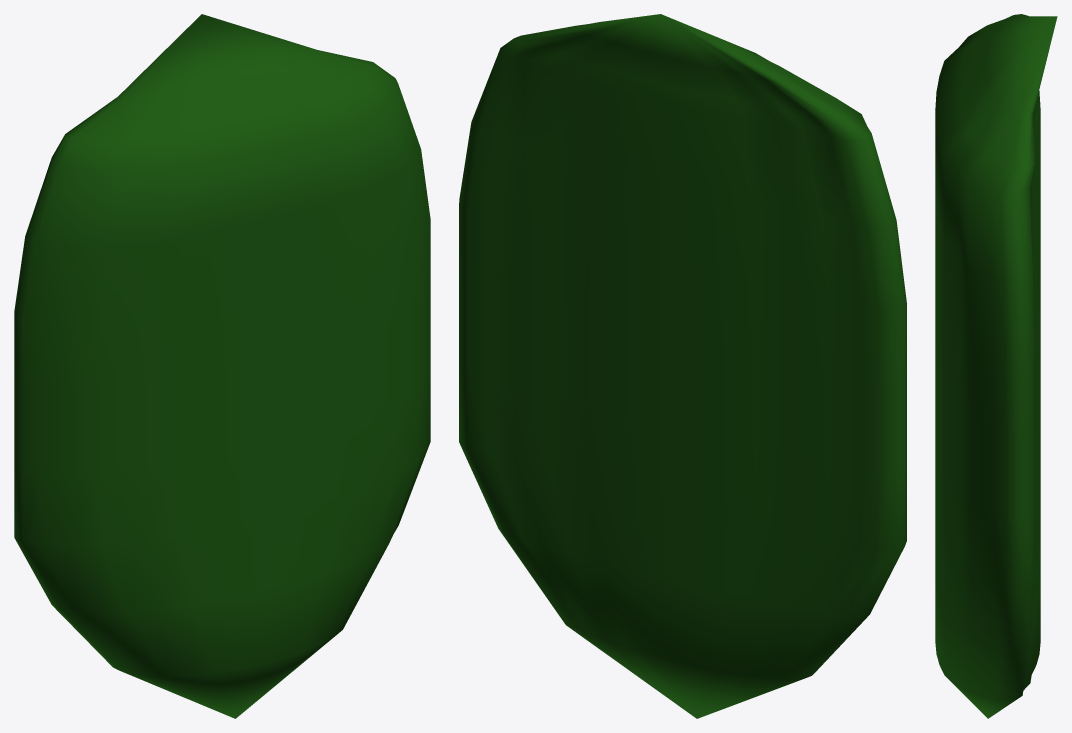
The model's file is scale.fbx.
The picture shows the model from 3 angles, left to right: view 1: azimuth 30°, elevation 25°; view 2: azimuth 150°, elevation 25°; view 3: azimuth 270°, elevation 25°; orthographic projection. The views are drawn at different scales.
Visible parts, largest first — view 1: Cylinder.001; view 2: Cylinder.001; view 3: Cylinder.001.
Boxes of the visible parts, x1,y1,x2,y2 form: Cylinder.001: (14,14,430,718); Cylinder.001: (459,14,906,718); Cylinder.001: (935,14,1057,718).
Size of the model in its own units: 7.55 by 11.84 by 1.87.
